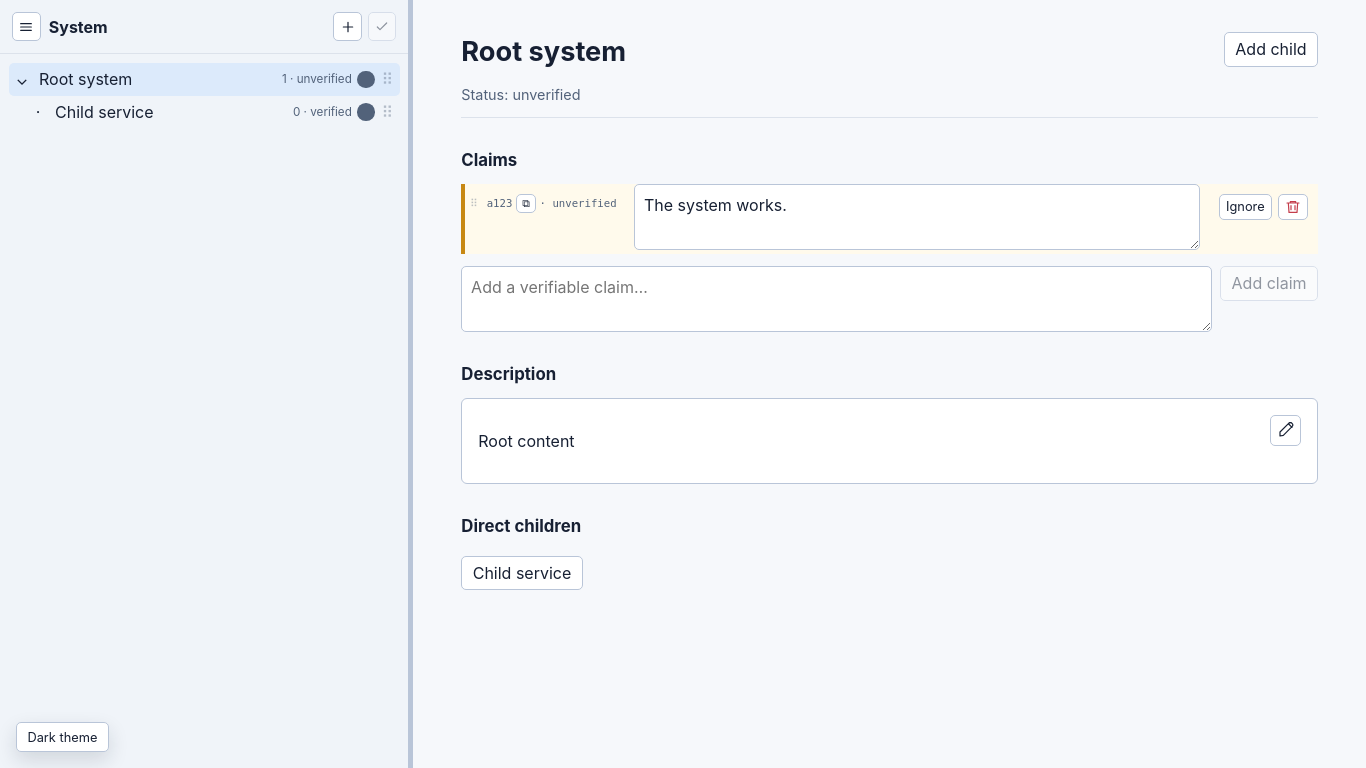
it: workspace interface specification › defaults to the light theme and allows switching to dark
expect the field showing "Root system" is shown: met, box top-left (461, 32), bottom-right (1208, 71)
Click the button with aria-label "Use dark theme": {"x": 62, "y": 737} top-left (16, 722), bottom-right (109, 752)
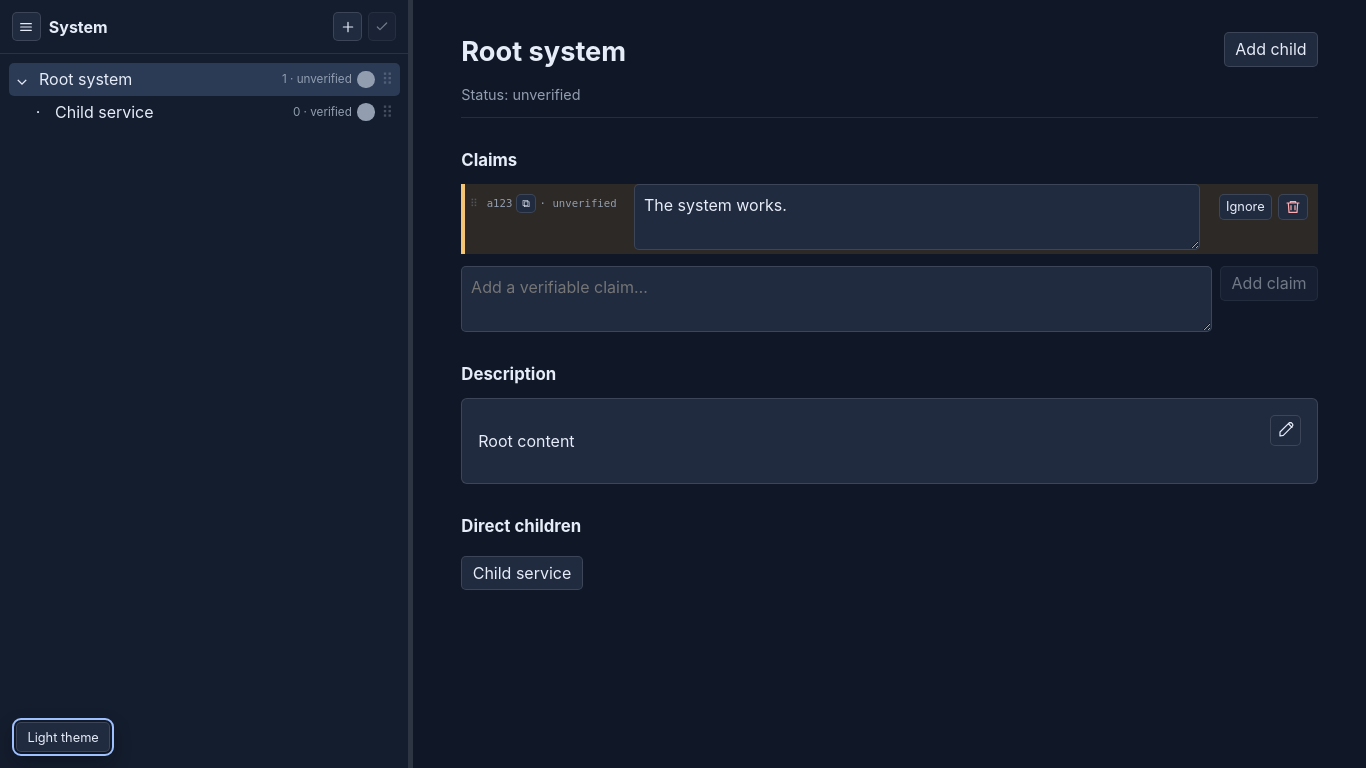
expect the button with aria-label "Use light theme" is shown: met, box top-left (16, 722), bottom-right (110, 752)
